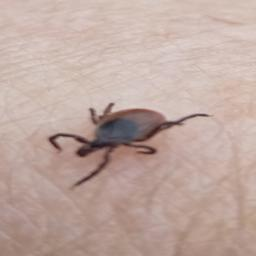Ixodes scapularis: (49, 103, 210, 188)
